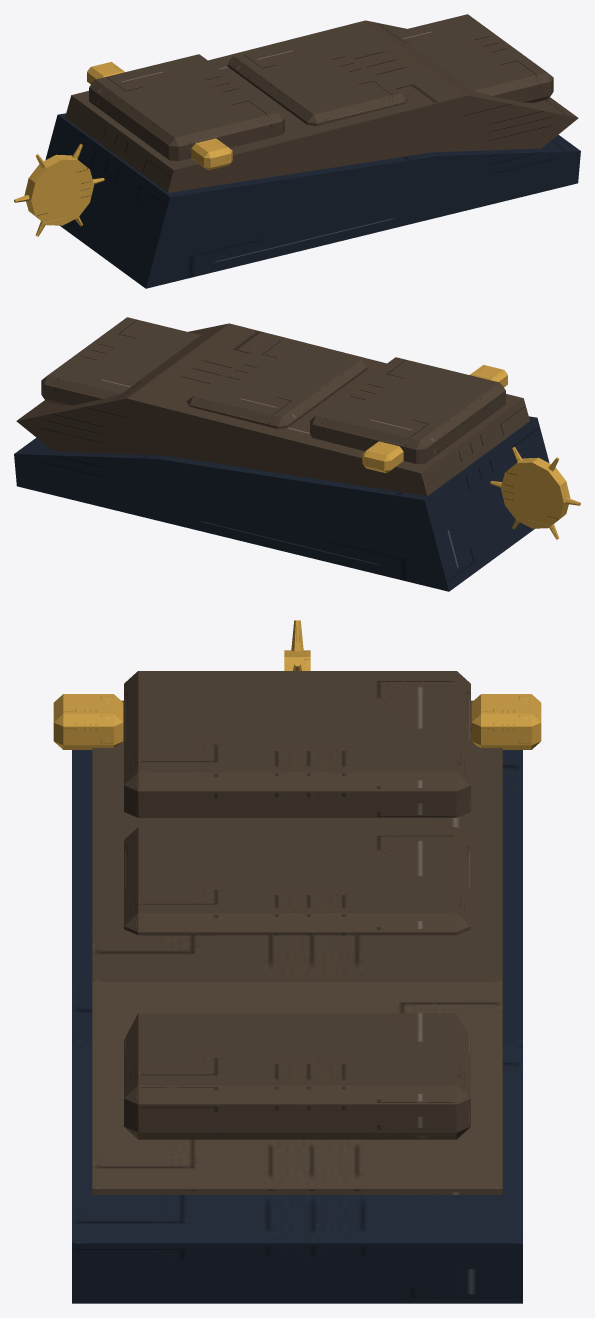
File: spurs.glb
The picture shows the model from 3 angles, top to bottom: view 1: azimuth 30°, elevation 25°; view 2: azimuth 150°, elevation 25°; view 3: azimuth 270°, elevation 25°; orthographic projection. The views are drawn at different scales.
Parts seen in each view (by area): view 1: foot_L, foot_R; view 2: foot_L, foot_R; view 3: foot_L, foot_R.
Part boxes in pixels (x1,y1,x2,y2): foot_L: (14,14,580,288); foot_R: (191,138,232,170); foot_L: (14,317,580,591); foot_R: (470,365,507,387); foot_L: (72,620,541,1303); foot_R: (53,694,123,749).
Size of the model in its own units: 0.357 by 0.085 by 0.147.
3 materials, 3 textured.
